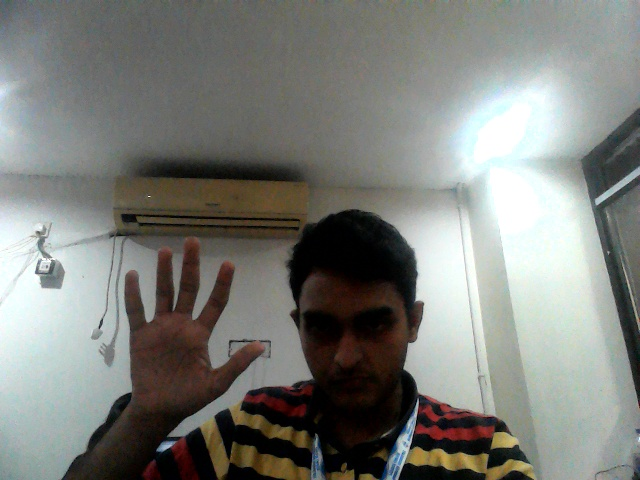palm: (115, 234, 268, 416)
